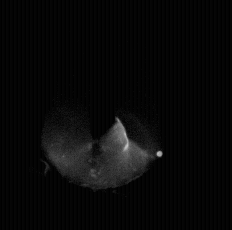arame: (91, 0, 118, 139)
poca: (43, 0, 157, 230)
